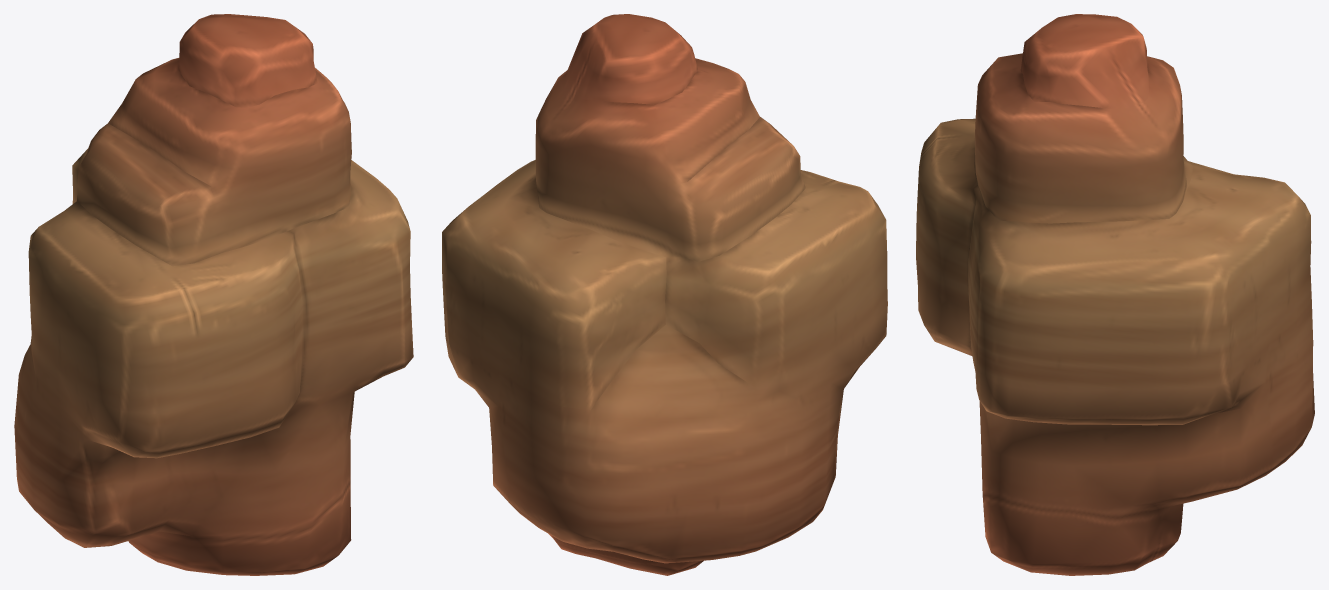
The model's file is Desert_Stone_2.fbx.
The picture shows the model from 3 angles, left to right: view 1: azimuth 30°, elevation 25°; view 2: azimuth 150°, elevation 25°; view 3: azimuth 270°, elevation 25°; orthographic projection. The views are drawn at different scales.
Parts seen in each view (by area): view 1: Desert_Stone_2; view 2: Desert_Stone_2; view 3: Desert_Stone_2.
Boxes of the visible parts, x1,y1,x2,y2 form: Desert_Stone_2: (14, 14, 413, 575); Desert_Stone_2: (442, 14, 887, 575); Desert_Stone_2: (916, 14, 1314, 575).
Bounding box in the file's own units: 541 × 799 × 557.
